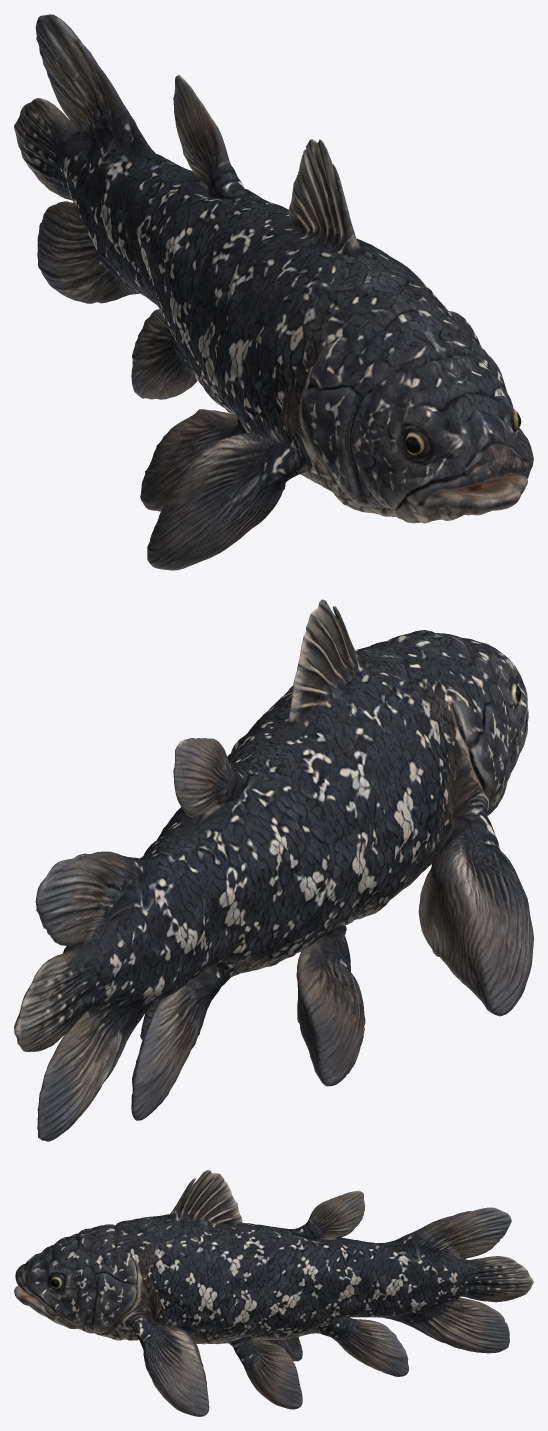
The model's file is finfish.glb.
3 renders of one model, top to bottom at view 1: azimuth 30°, elevation 25°; view 2: azimuth 150°, elevation 25°; view 3: azimuth 270°, elevation 25°, orthographic. The views are drawn at different scales.
Parts seen in each view (by area): view 1: model; view 2: model; view 3: model.
Boxes of the visible parts, <box> form: model: <box>14,14,533,570</box>; model: <box>14,599,533,1141</box>; model: <box>14,1170,533,1416</box>.
Bounding box in the file's own units: 0.8125 × 0.8624 × 1.89.
Materials: 1 (1 with a texture image).
